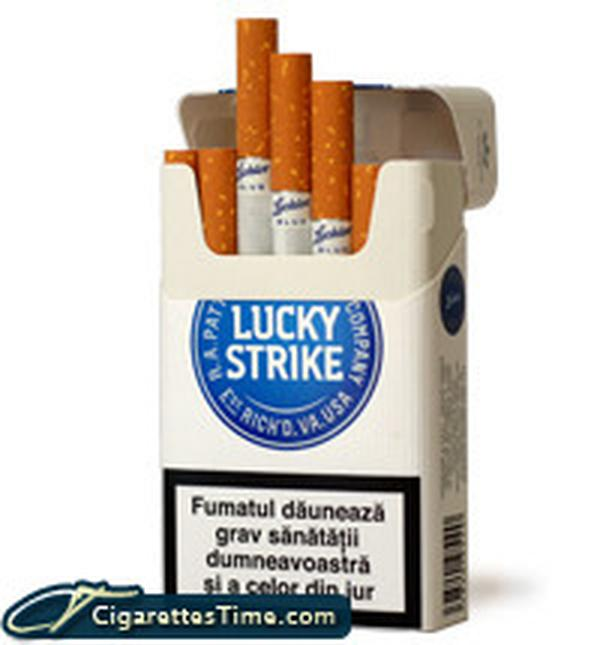lucky_strike_blue: (163, 168, 428, 632)
